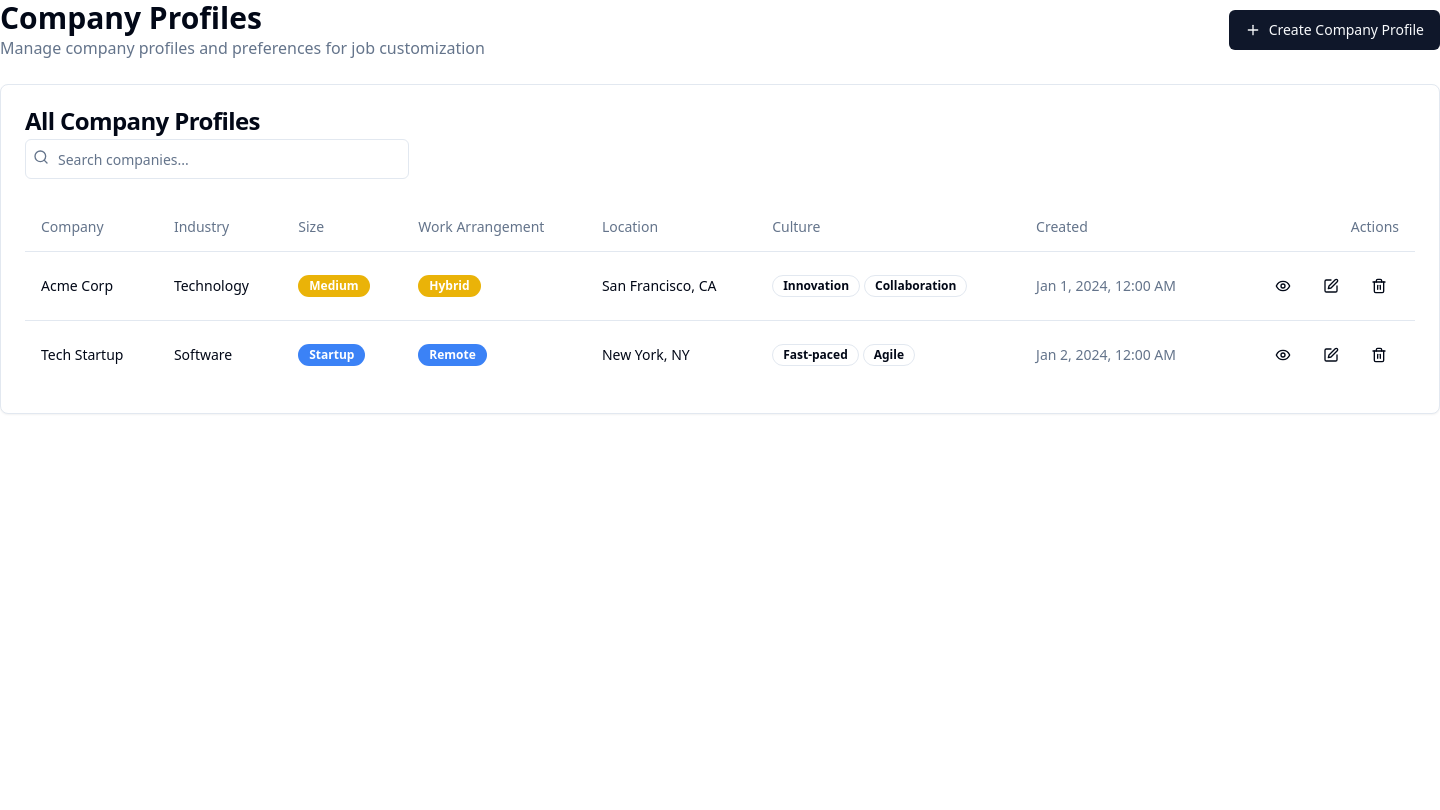
Test: CompanyProfileList › opens create dialog when create button is clicked
The image size is (1440, 810).
Click the button "Create Company Profile" at (1334, 30), box [1229,10,1439,50]
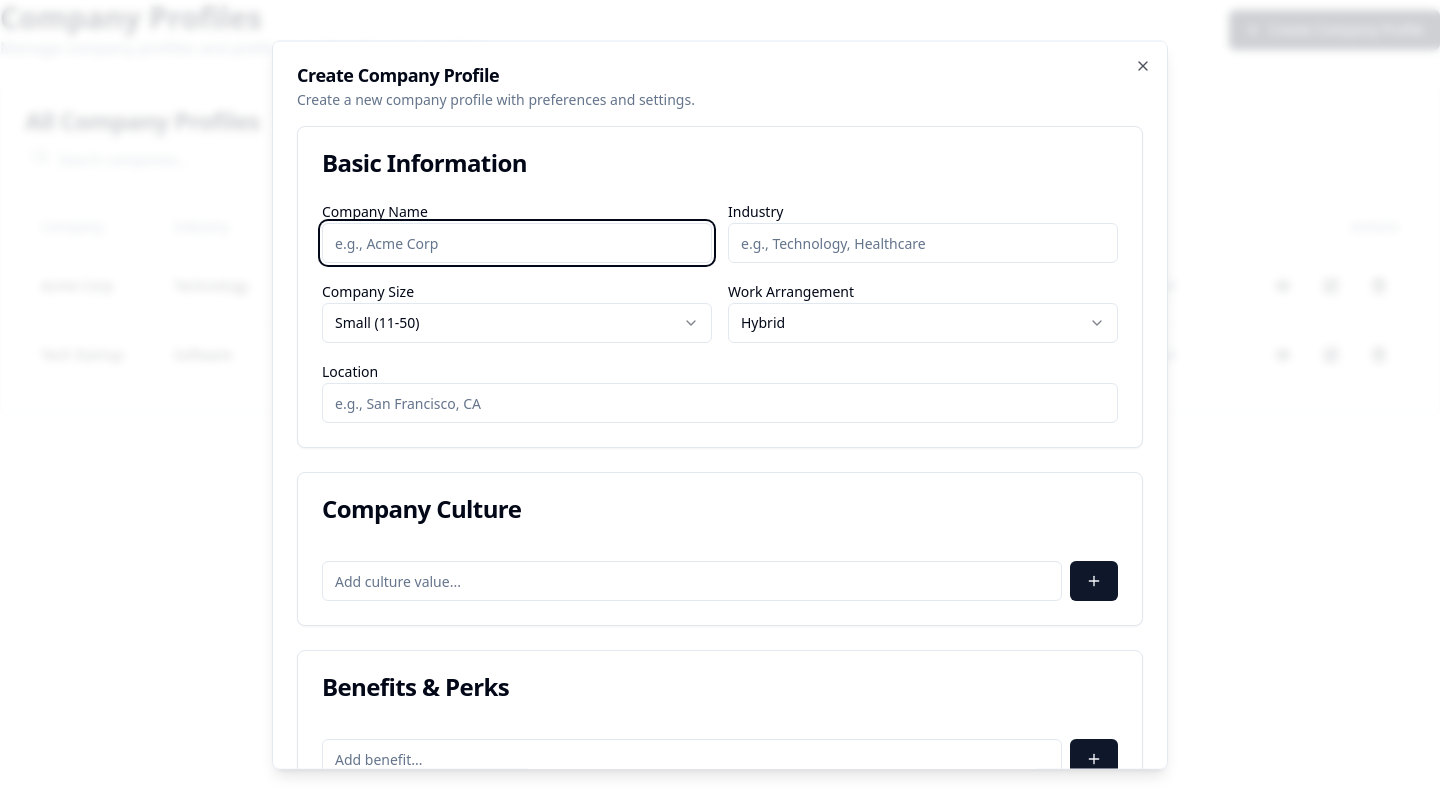
Now the text "Create a new company profile with preferences and settings." is shown, box [297,90,695,108]
